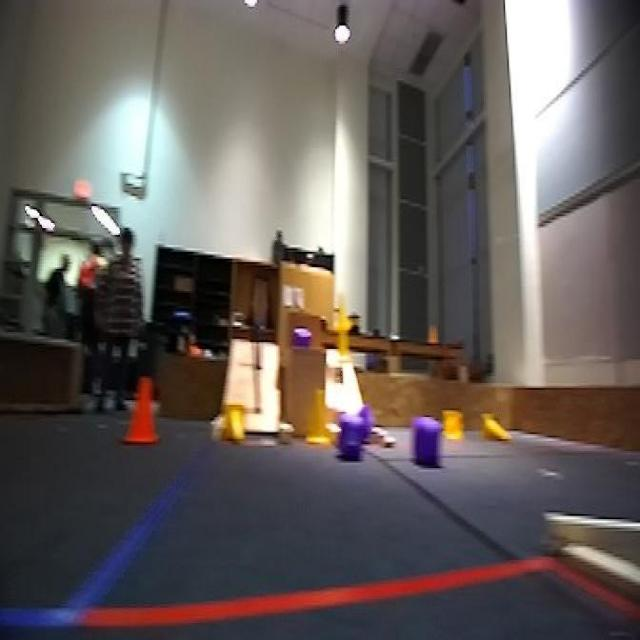frc_cone: (307, 386, 338, 451), (219, 402, 248, 446), (334, 320, 356, 368), (478, 412, 511, 442), (440, 407, 463, 442), (336, 303, 354, 334)
frc_cube: (332, 414, 363, 456), (411, 424, 442, 465), (355, 405, 370, 439), (290, 330, 310, 349)
